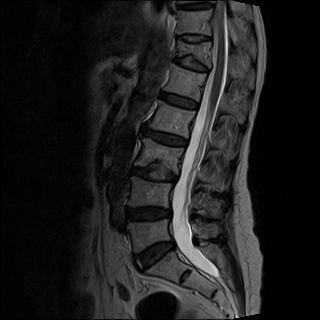L1,v2: (163, 69, 207, 94)
L1-L2,v1: (158, 88, 202, 113)
L2,v2: (150, 105, 194, 130)
L2-L3,v1: (144, 127, 188, 152)
L3,v2: (140, 141, 184, 166)
L3-L4,v5: (135, 160, 179, 185)
L4,v2: (129, 182, 173, 207)
L4-L5,v2: (126, 201, 170, 226)
L5,v2: (127, 220, 171, 245)
L5-S1,v2: (134, 240, 178, 265)
T12-L1,v5: (170, 53, 214, 78)
